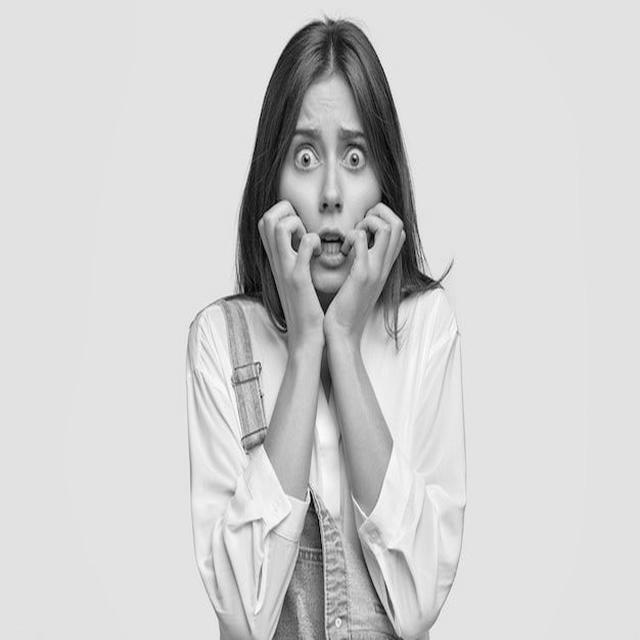Fear: (279, 77, 381, 294)
